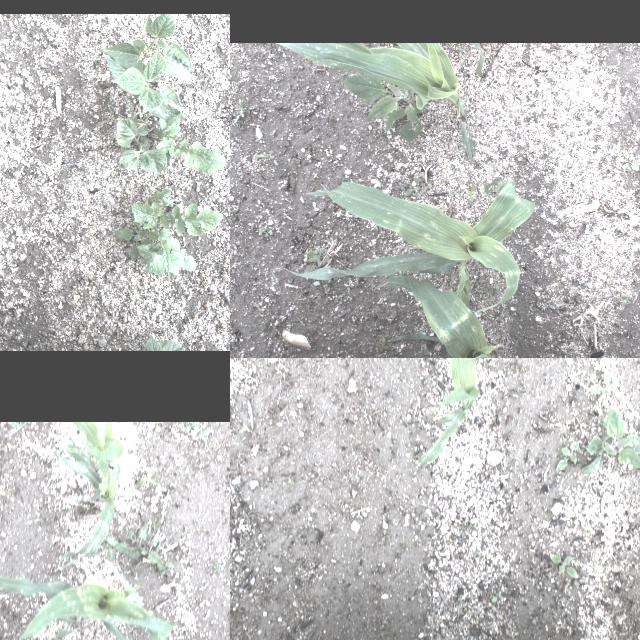crop: (284, 176, 534, 320), (275, 42, 475, 162), (0, 572, 180, 640), (363, 272, 503, 358), (54, 422, 126, 568), (415, 358, 484, 466), (104, 42, 184, 122), (100, 14, 196, 80), (576, 404, 640, 473), (116, 116, 168, 180), (142, 334, 186, 350), (472, 42, 486, 78)
weed: (115, 188, 223, 282), (346, 73, 424, 141), (150, 112, 226, 174), (591, 364, 623, 400), (122, 520, 150, 560), (546, 552, 582, 582), (555, 438, 581, 472), (150, 546, 178, 576), (102, 534, 124, 566), (304, 248, 326, 276), (182, 422, 216, 438), (483, 270, 502, 296), (134, 467, 156, 488), (619, 149, 639, 171), (454, 518, 481, 534), (280, 471, 308, 485), (489, 583, 505, 607), (404, 174, 420, 196), (235, 96, 248, 122), (466, 180, 479, 203), (237, 420, 251, 438), (466, 547, 484, 561), (258, 153, 278, 165), (374, 338, 390, 352), (378, 528, 392, 544), (210, 558, 223, 574), (8, 422, 28, 432), (258, 226, 274, 238), (88, 275, 100, 285), (619, 292, 629, 304), (202, 279, 210, 289), (448, 188, 458, 195), (539, 354, 555, 358), (338, 298, 348, 304), (388, 149, 396, 155), (344, 283, 350, 291), (442, 176, 446, 186), (378, 237, 384, 243), (276, 327, 280, 335), (550, 83, 558, 87), (377, 353, 383, 358), (528, 304, 534, 308), (518, 111, 524, 115), (274, 78, 280, 82), (248, 264, 254, 268), (535, 254, 539, 260), (552, 170, 556, 176), (576, 331, 580, 337), (458, 47, 462, 51), (550, 48, 556, 50)
